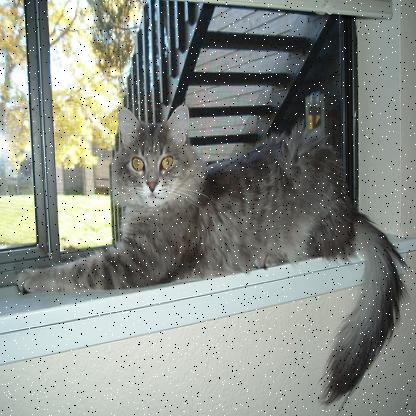cat: (15, 96, 406, 409)
